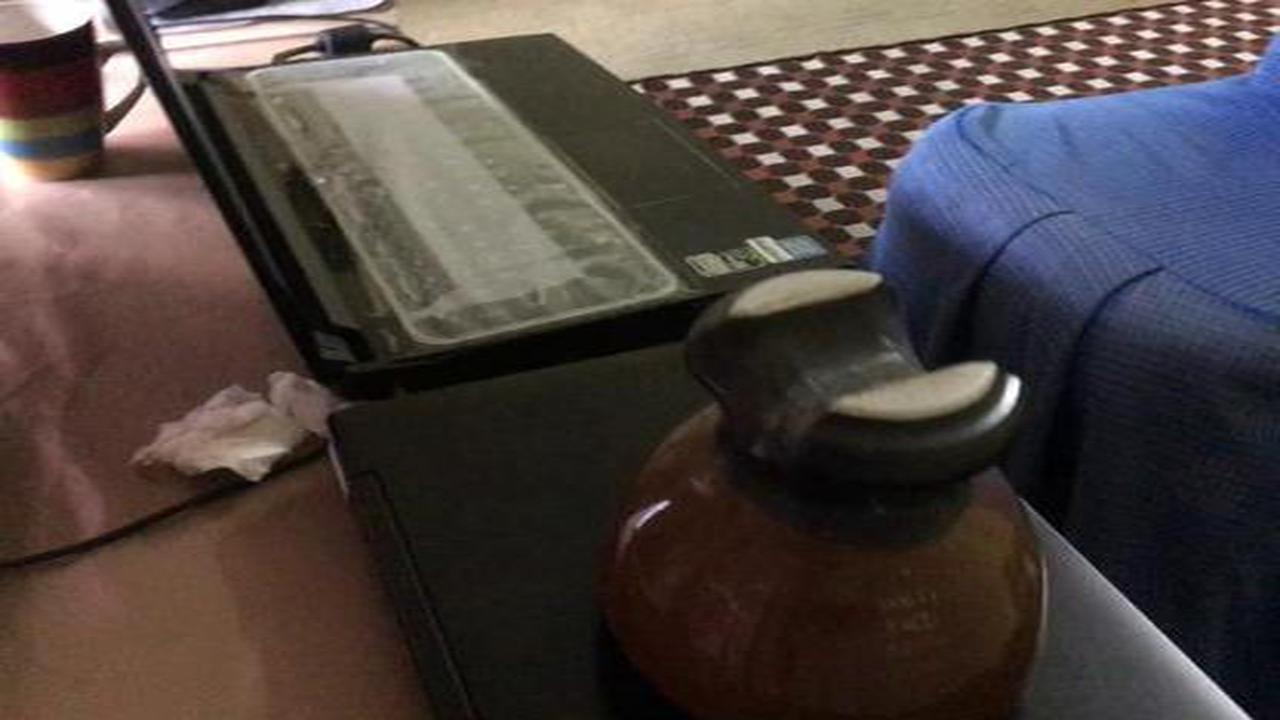insulator_pin: (582, 257, 1062, 720)
